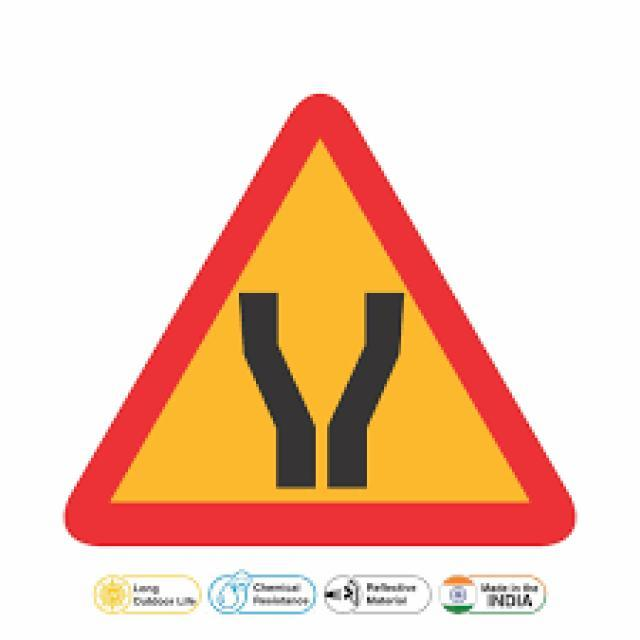road widens ahead: (60, 90, 579, 545)
